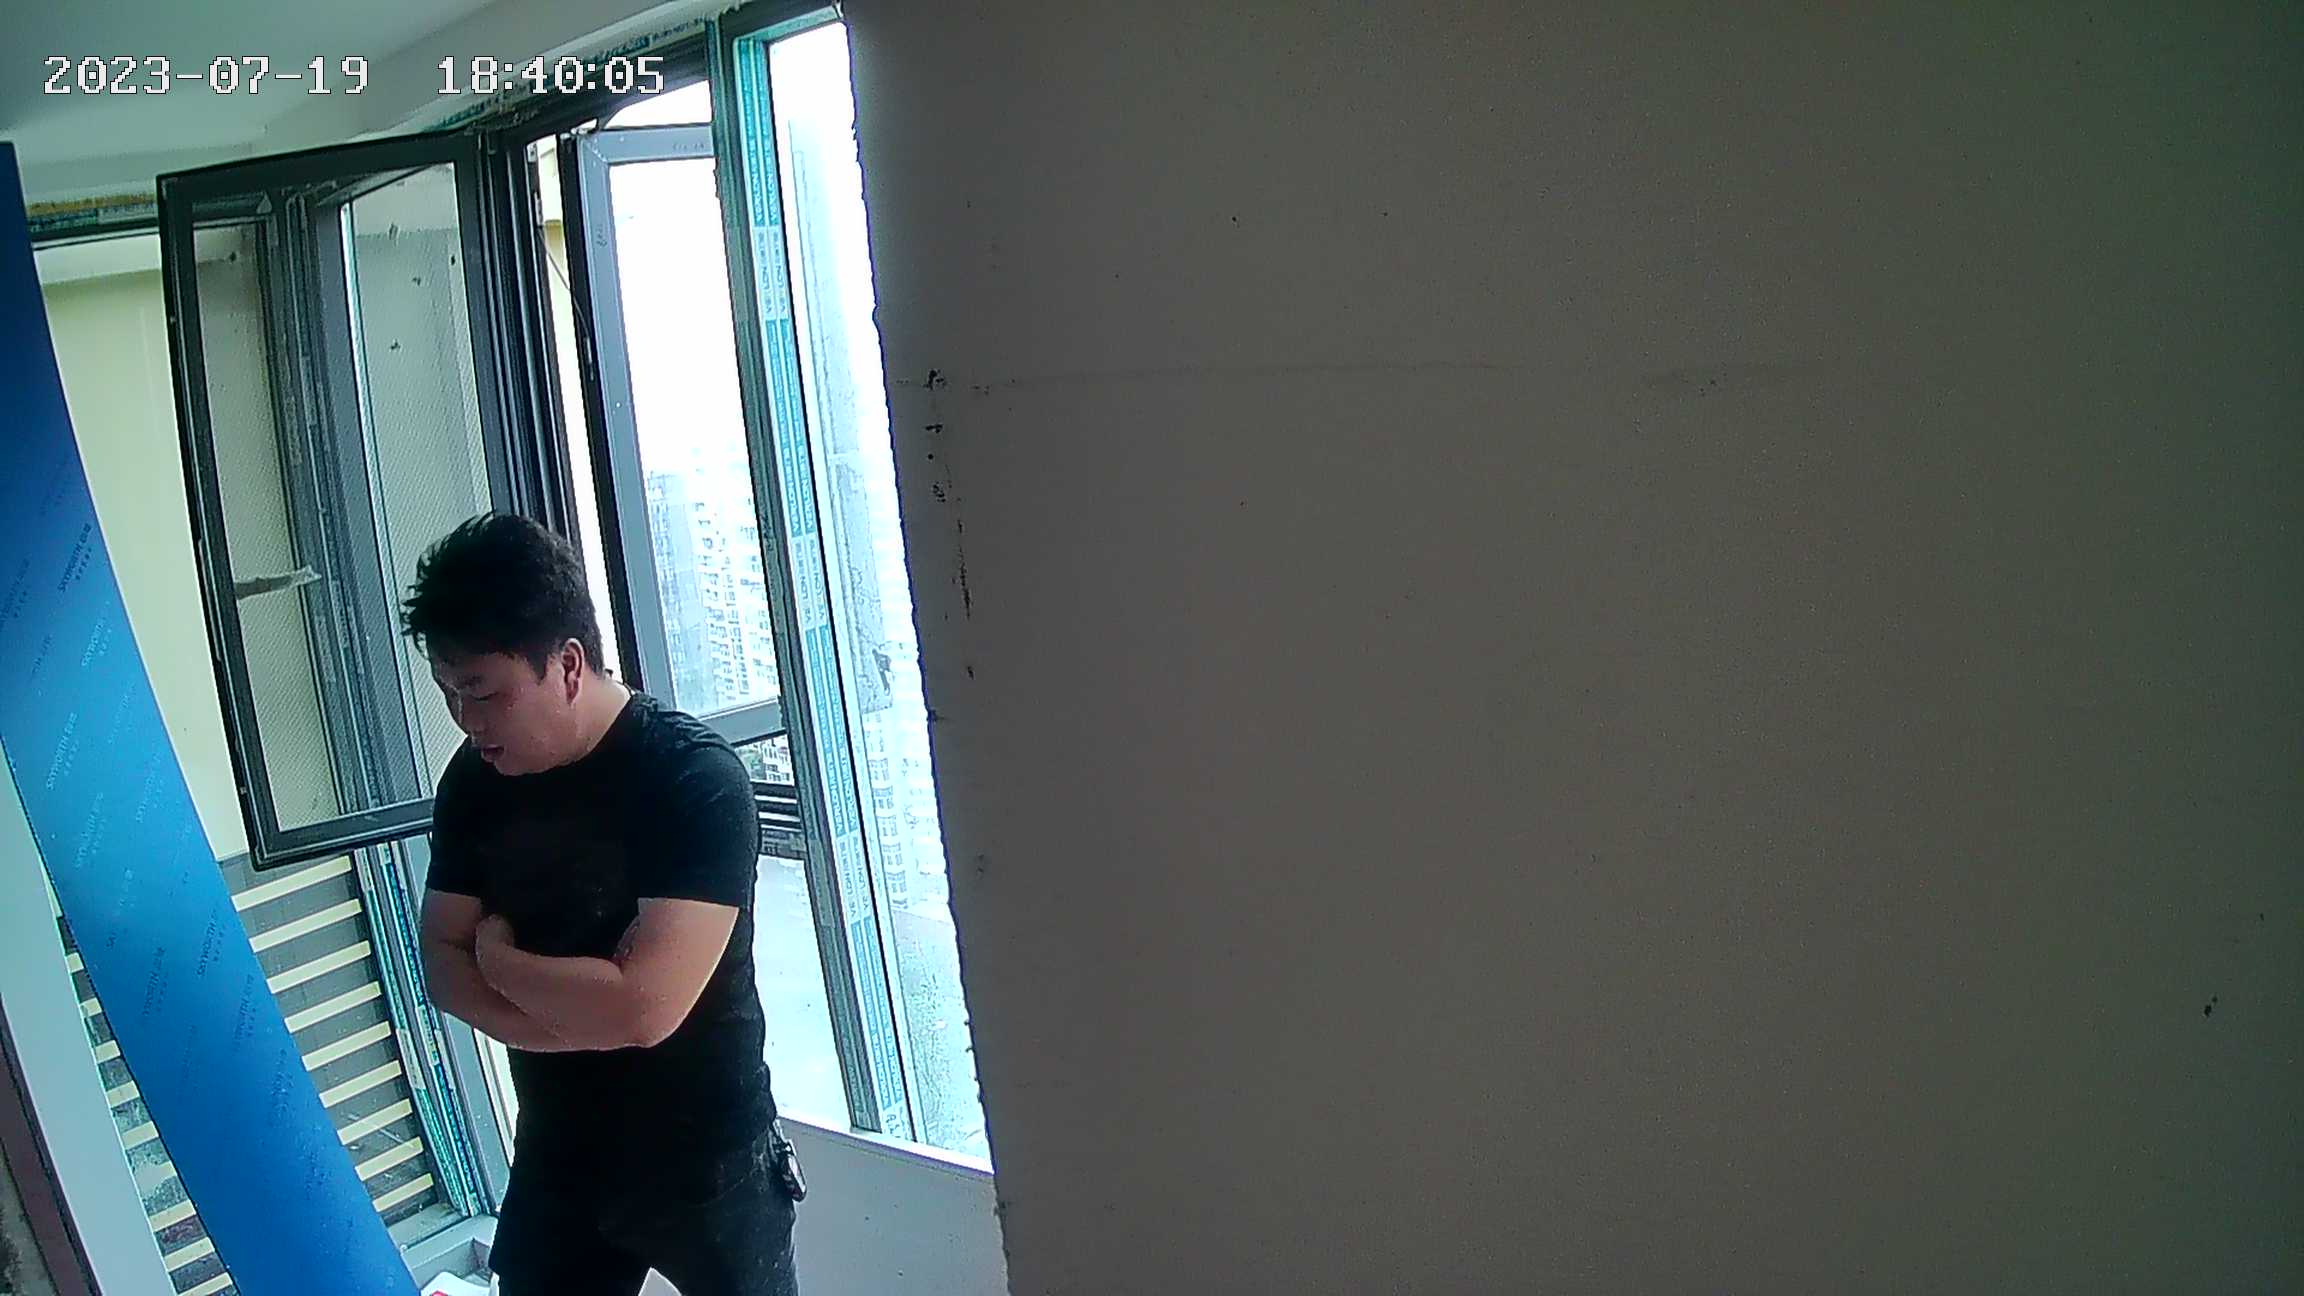people: (411, 524, 814, 1289)
window: (32, 48, 989, 1277)
